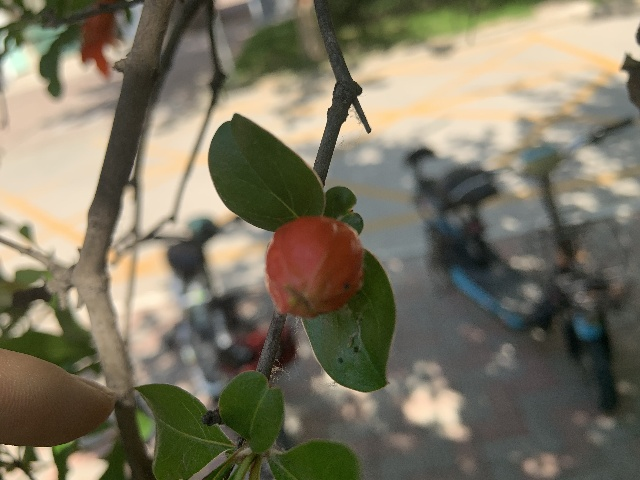bud: (264, 215, 364, 318)
flower: (79, 0, 127, 80)
